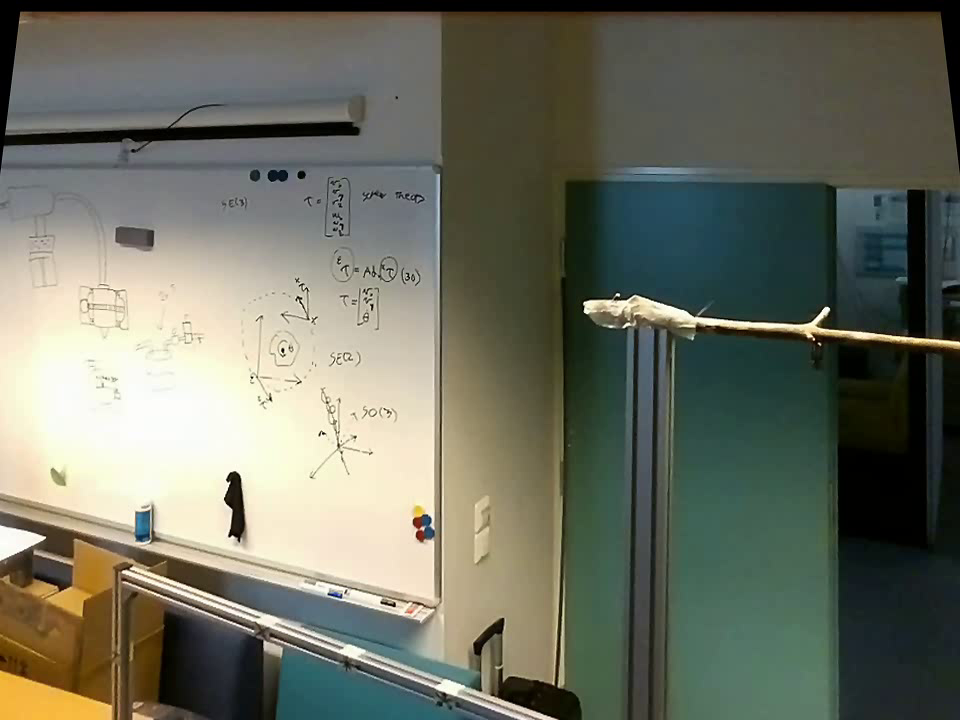aluminum_frame: (118, 555, 529, 719), (2, 487, 438, 627), (616, 330, 676, 715), (2, 155, 442, 181), (426, 158, 448, 615), (106, 561, 138, 717)
branch: (711, 287, 955, 368)
